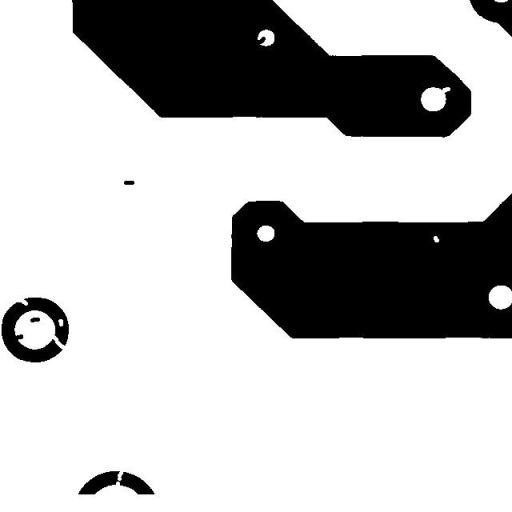copper: (22, 310, 48, 330), (116, 173, 142, 192)
mousebite: (7, 290, 35, 313), (434, 79, 458, 100)
open: (108, 449, 131, 495), (41, 326, 76, 356)
pin-hole: (50, 311, 70, 334), (426, 228, 446, 250)
spur: (2, 326, 30, 348), (247, 29, 273, 51)
